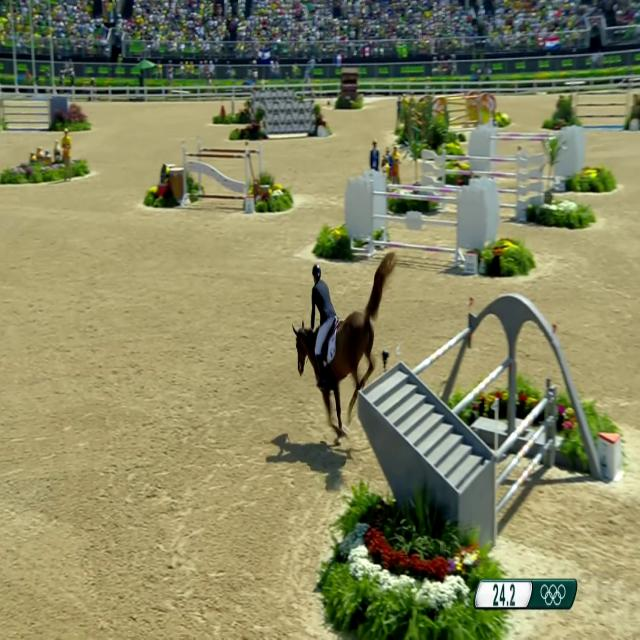Horse Jumping: (288, 238, 414, 468)
